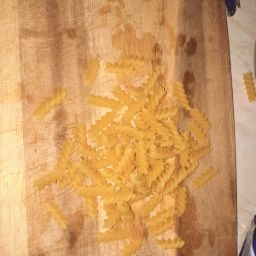Pasta: (24, 34, 231, 256), (37, 93, 91, 198), (102, 201, 176, 253), (137, 198, 179, 242), (172, 159, 203, 214), (113, 47, 150, 80), (97, 91, 126, 129), (133, 144, 152, 178)
